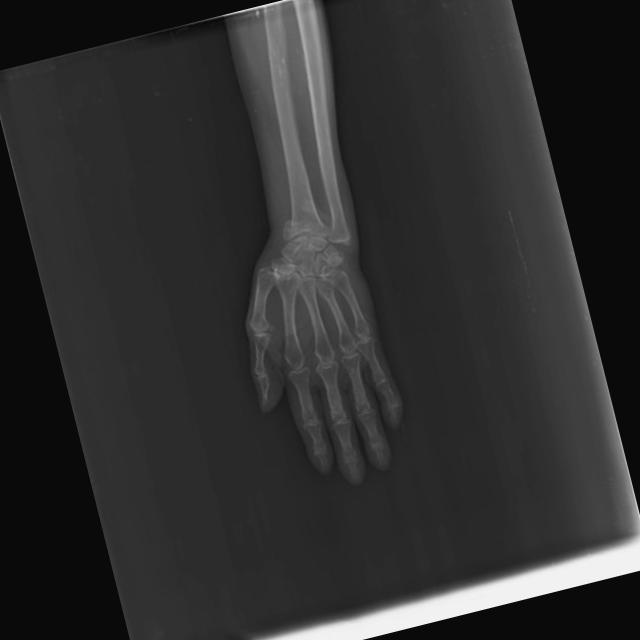Fracture: (277, 217, 332, 243)
